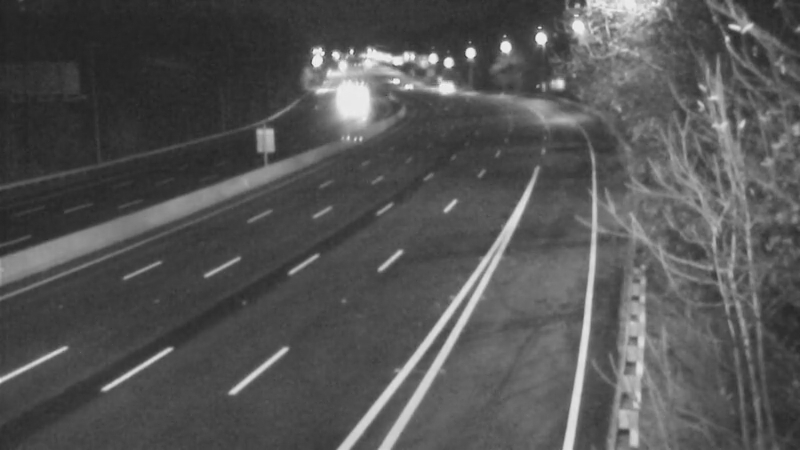vehicle: (380, 61, 430, 111), (412, 63, 462, 113), (325, 77, 375, 127)
